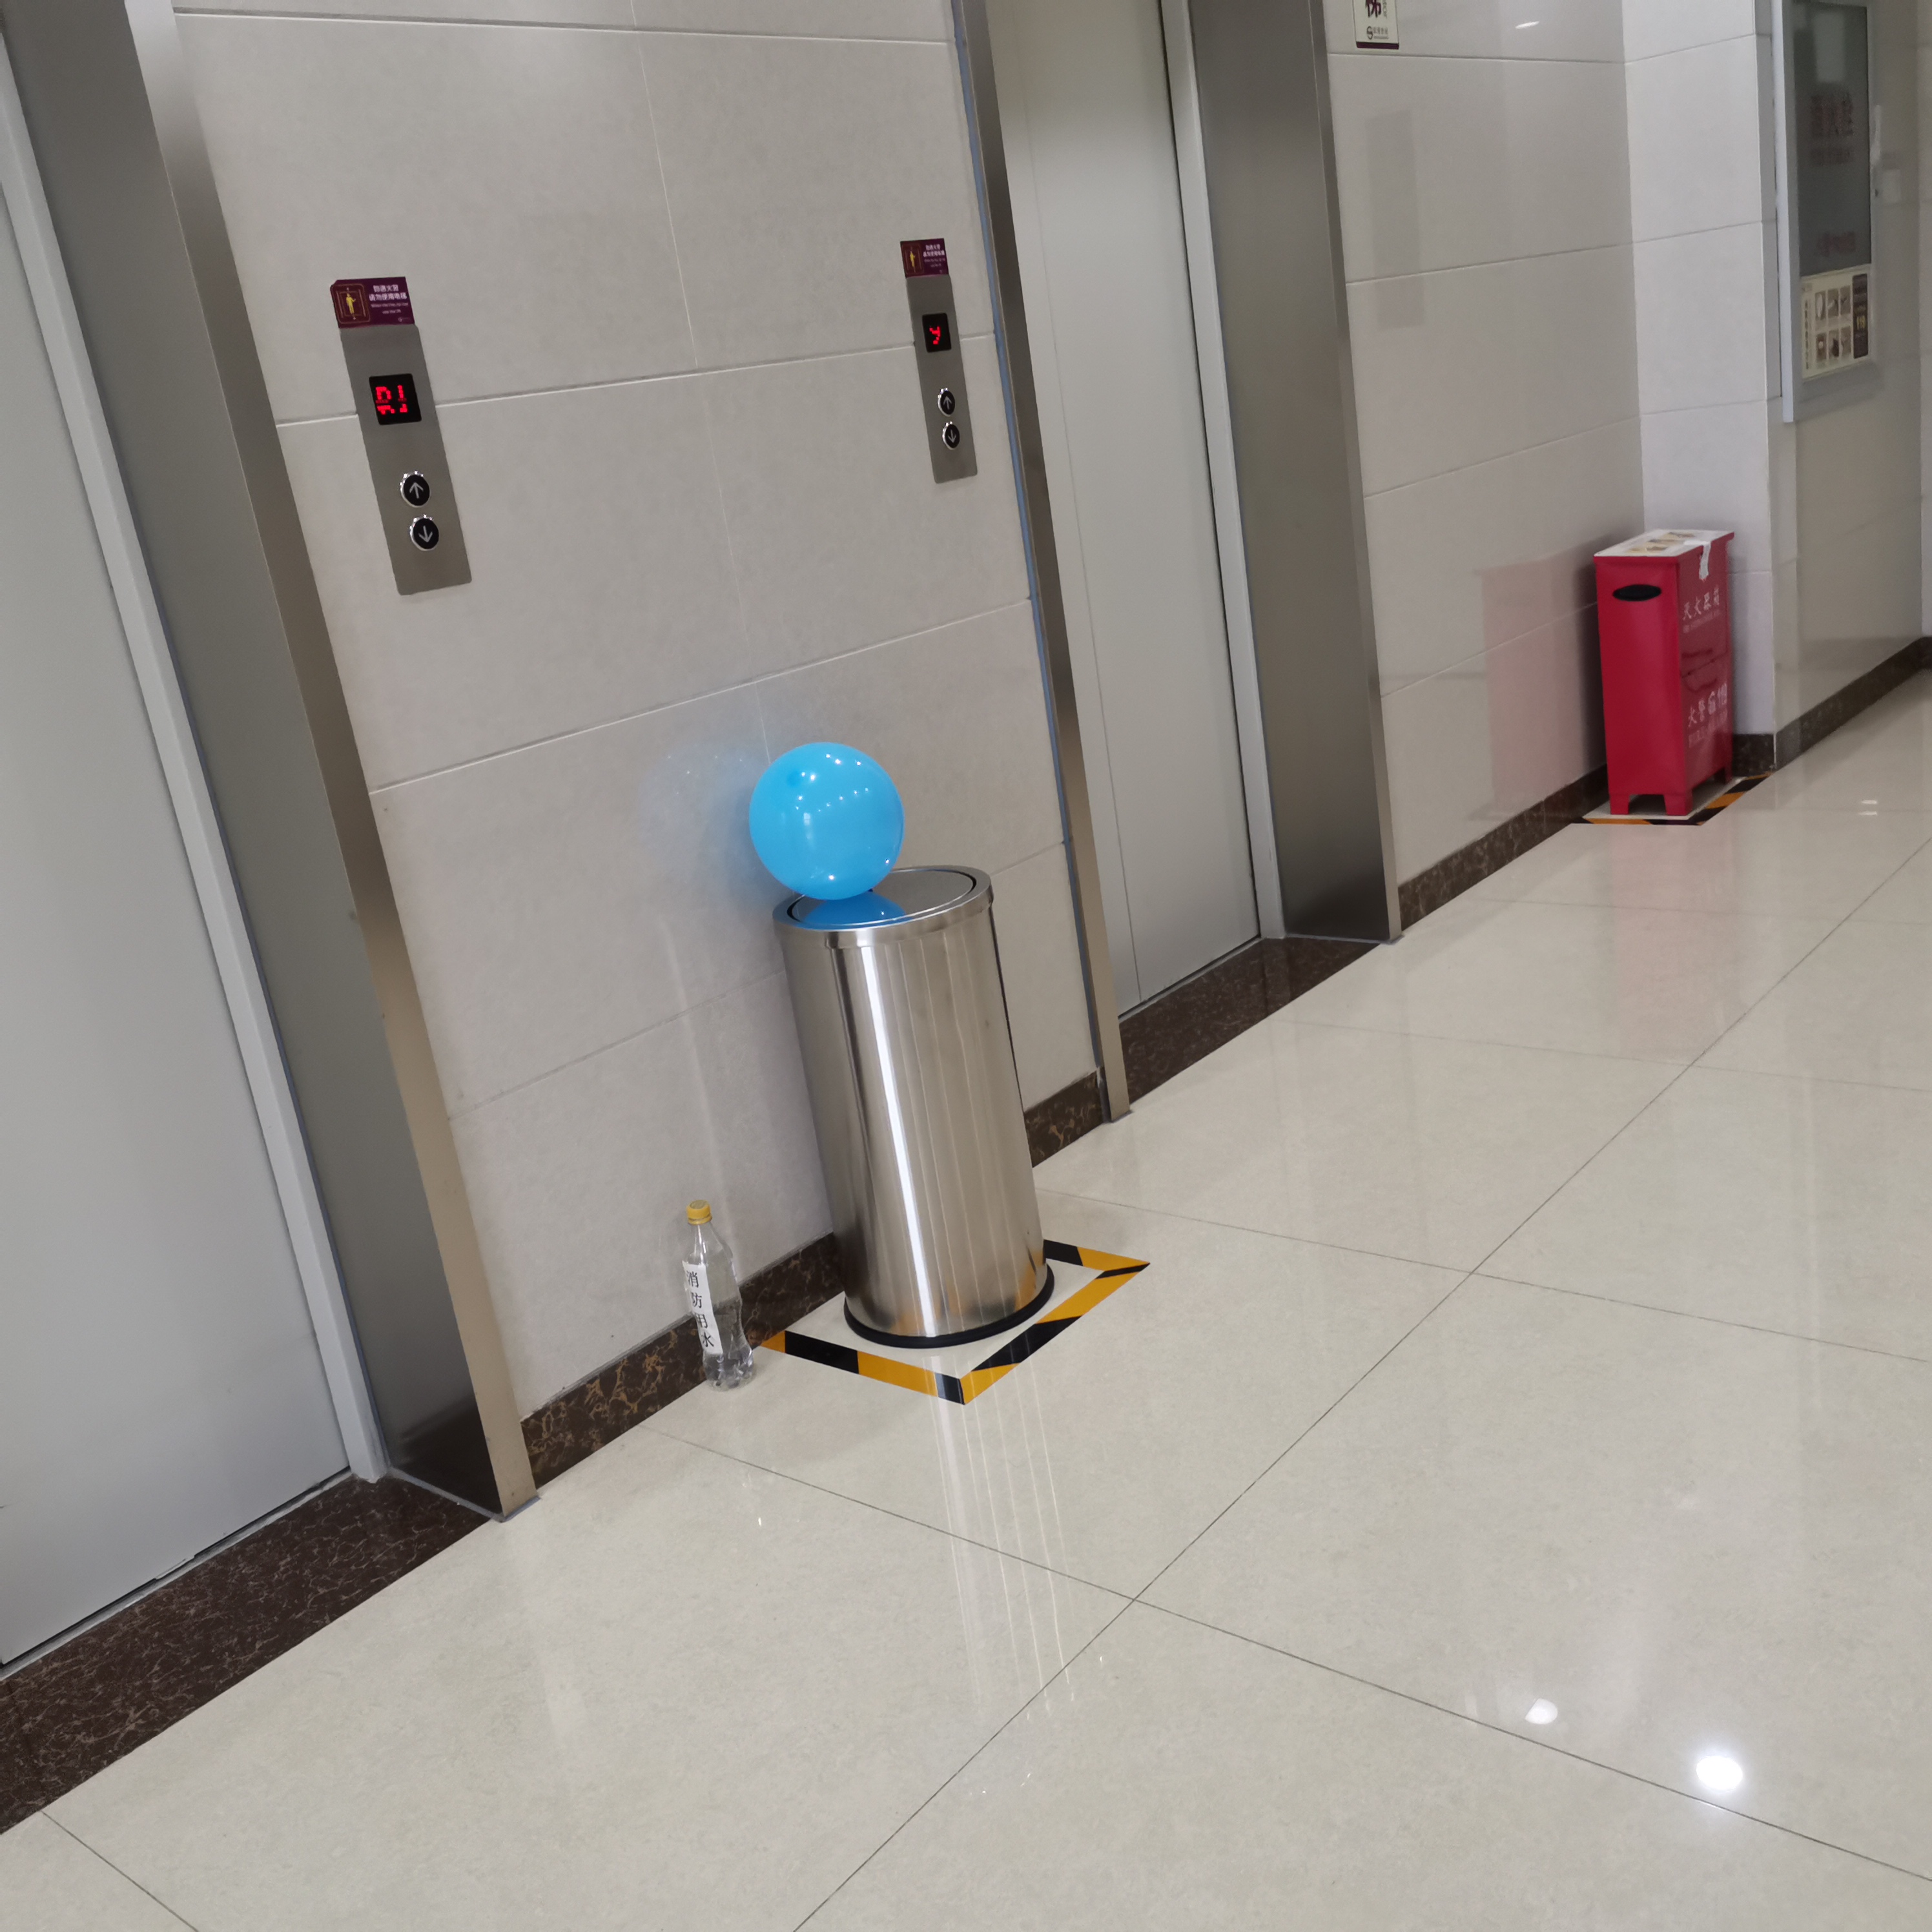balloon: (750, 740, 902, 899)
